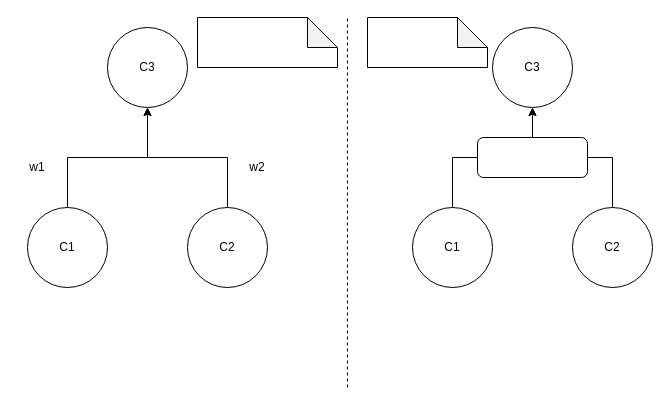
Image size: 670x406. Some labels were removed from this diagram. The shapes that lost their labels are listed below. From the top down, each one's box as (x1, y1, x2, y2) in pixels, then its label:
(196, 16, 338, 68): Классическая NFCM
(366, 16, 488, 68): FCM-LSTM
(476, 136, 588, 178): LSTM(2,h,n_steps)
